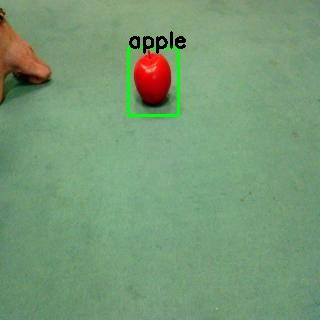apple: (125, 38, 179, 115)
